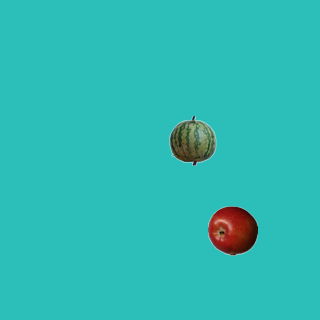Apple Braeburn: (207, 205, 257, 255)
Watermelon: (167, 115, 217, 165)
